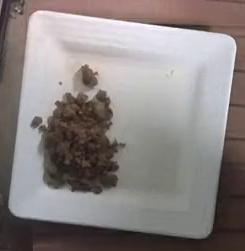beef: (38, 89, 122, 192)
